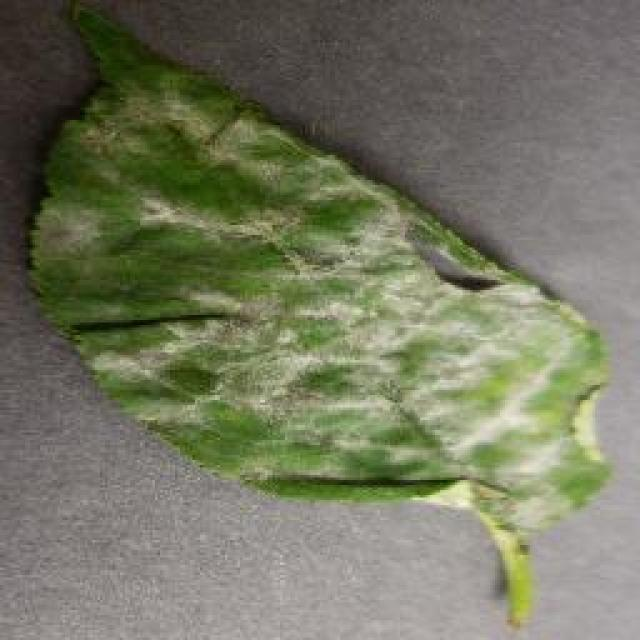Cherry___Powdery_mildew: (13, 0, 625, 638)
